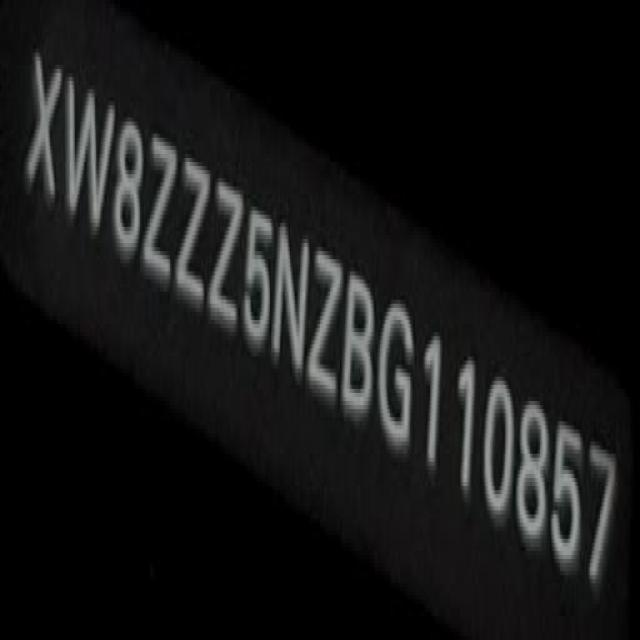0: (481, 372, 514, 524)
1: (421, 320, 446, 481), (454, 351, 480, 498)
5: (550, 419, 586, 579), (242, 201, 273, 356)
7: (589, 426, 620, 598)
8: (515, 396, 548, 558), (116, 112, 140, 254)
B: (344, 268, 374, 424)
G: (378, 294, 415, 458)
N: (275, 211, 315, 391)
W: (63, 50, 111, 238)
X: (28, 42, 58, 222)
Z: (307, 249, 343, 399), (143, 126, 176, 285), (209, 182, 244, 327), (176, 156, 209, 308)
